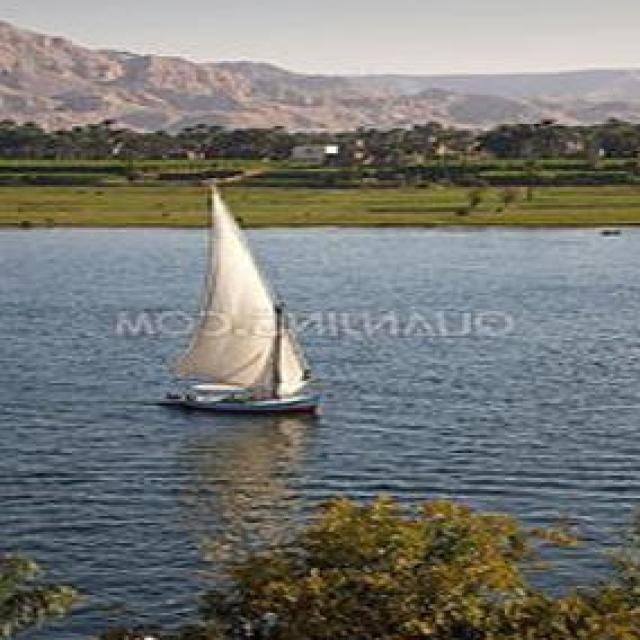sailboat: (150, 166, 319, 417)
